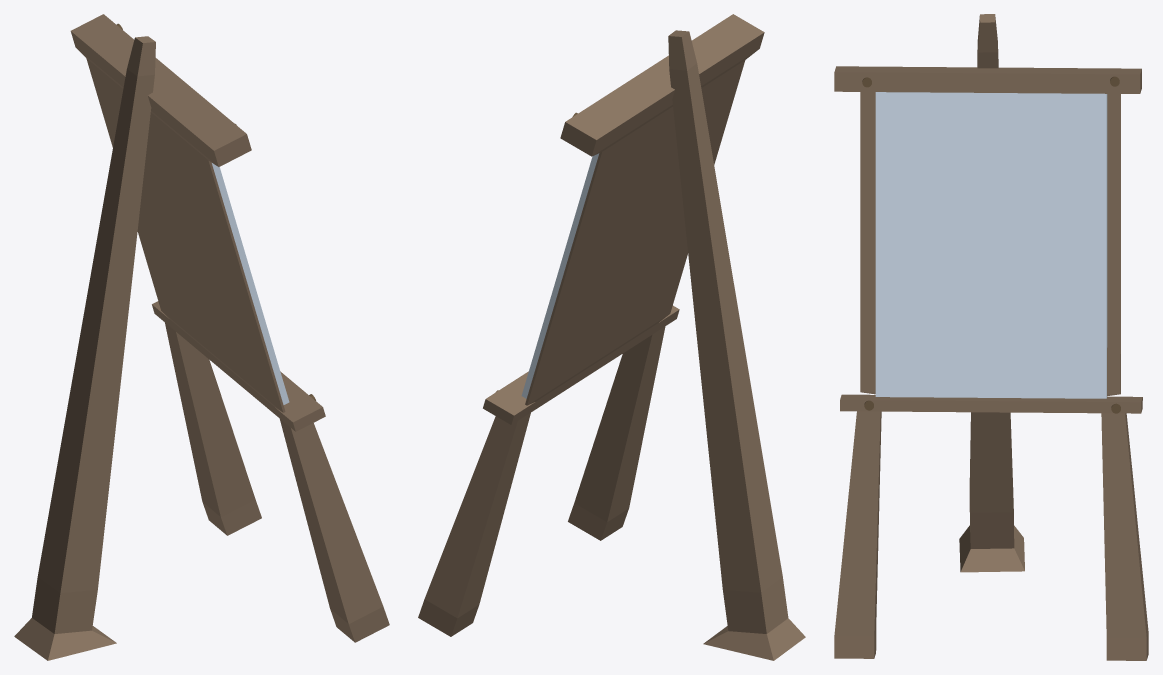
File: PaintStation.fbx
The picture shows the model from 3 angles, left to right: view 1: azimuth 30°, elevation 25°; view 2: azimuth 150°, elevation 25°; view 3: azimuth 270°, elevation 25°; orthographic projection. The views are drawn at different scales.
Visible parts, largest first — view 1: Cube, Cube.003, Cube.001, Cube.002; view 2: Cube, Cube.003, Cube.001, Cube.002; view 3: Cube.002, Cube, Cube.003, Cube.001.
Boxes of the visible parts, x1,y1,x2,y2 form: Cube: (70,14,389,642); Cube.003: (14,36,155,660); Cube.001: (165,323,261,535); Cube.002: (212,163,289,404); Cube: (483,14,764,540); Cube.003: (668,30,805,660); Cube.001: (418,413,530,636); Cube.002: (521,153,599,398); Cube.002: (875,92,1107,398); Cube: (834,66,1142,658); Cube.003: (959,14,1024,572); Cube.001: (1101,413,1148,660).
Bounding box in the file's own units: 97.22 × 186 × 92.11.
